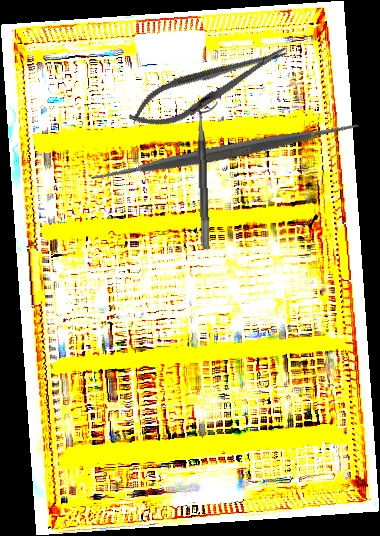Fixation Ring: (195, 98, 223, 250)
Needle Holder: (121, 31, 297, 141)
Spatula Surgical: (79, 5, 370, 298)
